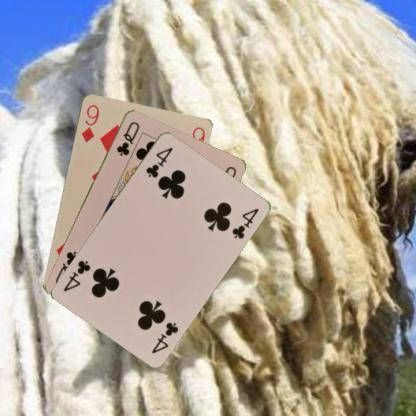4c: (148, 319, 180, 355), (142, 144, 174, 179)
9d: (79, 102, 100, 144)
Qc: (114, 118, 140, 158)
